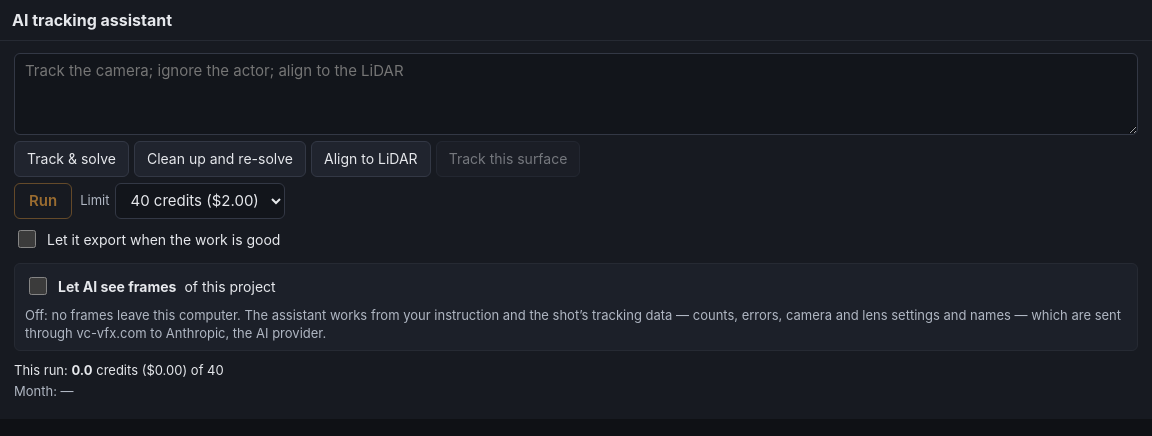
Test case: the AI assistant panel › stores the frames choice per project and explains what is sent
Expected: the text "no frames leave this computer" is shown, [25,307,1121,341]
Click the checkbox labelled "Let AI see frames of this project".
click(38, 286)  # box [29,277,47,295]
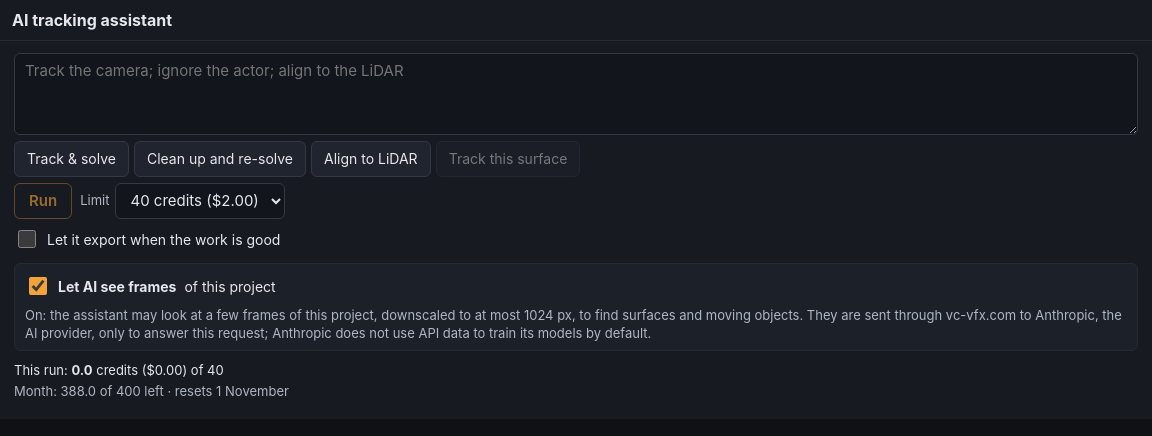
Result: the text "does not use API data to train its models by default" is shown at [25,307,1122,341]
